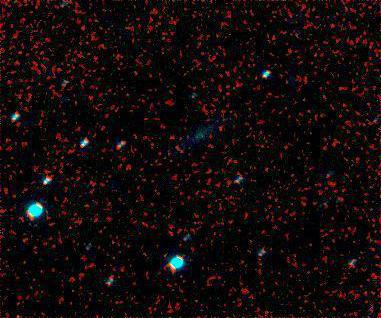star: (206, 114, 236, 144)
